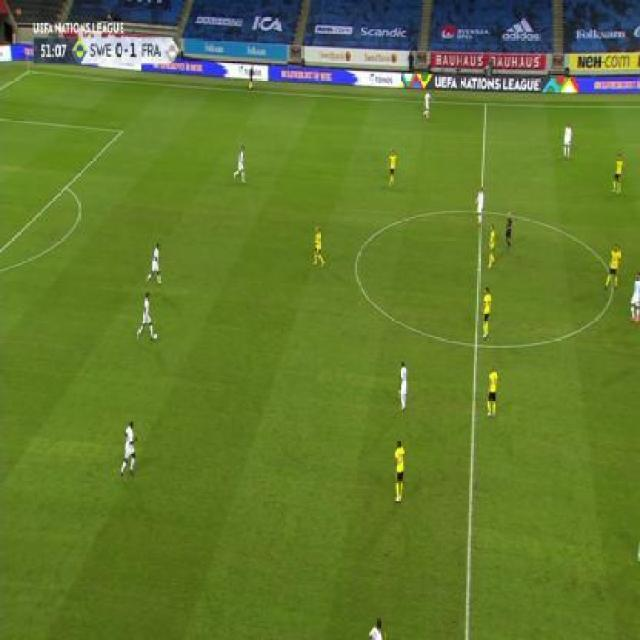ball: (153, 332, 158, 340)
player: (118, 419, 140, 479), (135, 291, 158, 344), (391, 437, 407, 505), (604, 243, 623, 292), (485, 363, 501, 419), (145, 242, 164, 287), (479, 286, 493, 339), (396, 358, 410, 411), (627, 272, 640, 323), (311, 225, 325, 268), (610, 152, 624, 194), (232, 145, 246, 184), (385, 148, 398, 187), (487, 223, 498, 269), (474, 186, 485, 226), (562, 122, 573, 159), (504, 208, 513, 253), (368, 617, 384, 639), (422, 90, 433, 119), (247, 62, 255, 90)
